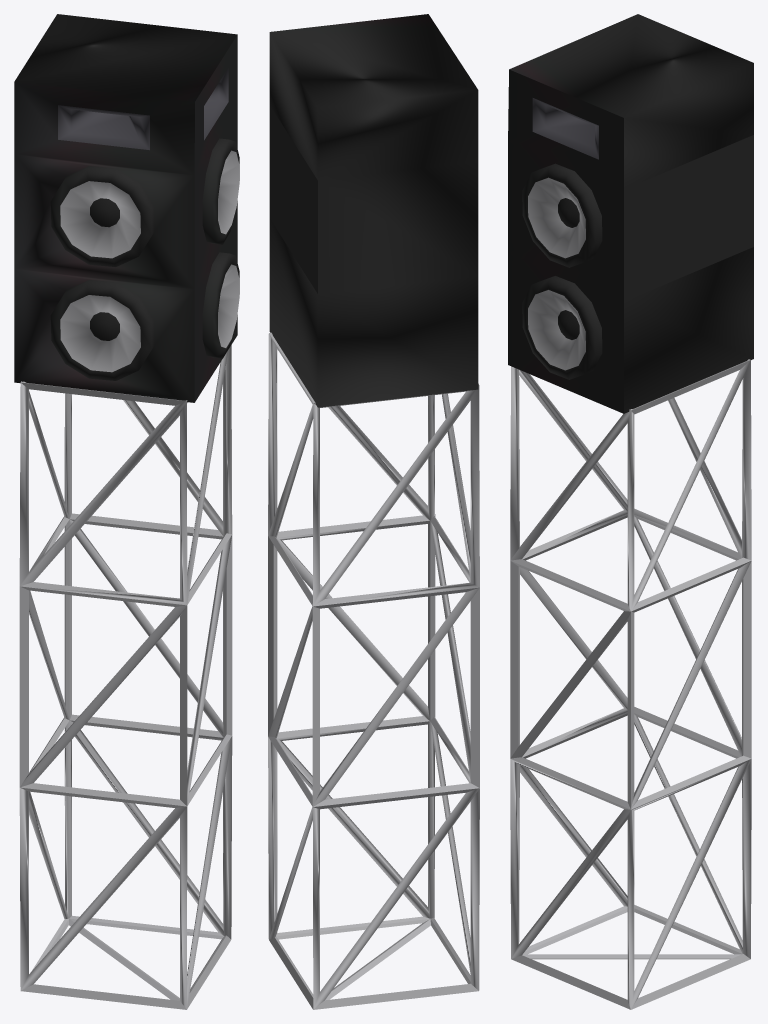
Rendered from GroupOfSpeakersTower.glb.
3 renders of one model, left to right at view 1: azimuth 30°, elevation 25°; view 2: azimuth 150°, elevation 25°; view 3: azimuth 270°, elevation 25°, orthographic.
Visible parts, largest first — view 1: GroupOfSpeakersTower; view 2: GroupOfSpeakersTower; view 3: GroupOfSpeakersTower.
Part boxes in pixels (bbox=[...]): GroupOfSpeakersTower: bbox=[14, 14, 239, 1009]; GroupOfSpeakersTower: bbox=[268, 14, 479, 1009]; GroupOfSpeakersTower: bbox=[508, 14, 753, 1009].
Size of the model in its own units: 1.5 by 6.01 by 1.5.
Materials: 1 (1 with a texture image).
